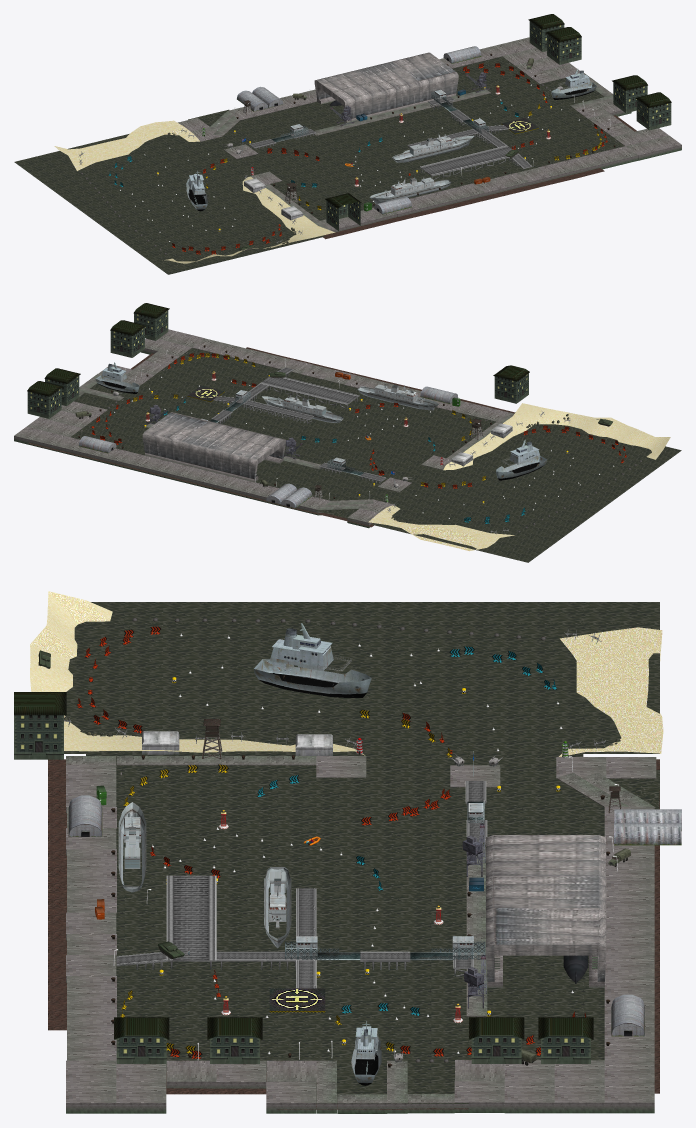
Rendered from Naval Base.glb.
3 views of the same model, one above another, from view 1: azimuth 30°, elevation 25°; view 2: azimuth 150°, elevation 25°; view 3: azimuth 270°, elevation 25° (orthographic). The views are drawn at different scales.
Visible parts, largest first — view 1: Untitled* (×9), toit1 (×5), Untitled, zone3, face2 (×2), zone1, zone2, Extended2, cote1 (×3), Base SousMarine, Petite Plage, hangar.3dm 1 (×2) (+3 smaller); view 2: Untitled* (×9), toit1 (×5), Untitled, Grande Plage, zone3, face2 (×2), zone1, zone2, Extended2, hull back* (×2), hangar.3dm 1 (×2), Grande Plage* (+3 smaller); view 3: Untitled* (×10), cote1 (×42), Untitled, toit1 (×5), zone1, Extended2, Grande Plage, hangar.3dm 1 (×4), zone3, potods.3dm 2 (×4), zone2, Base SousMarine (+8 smaller).
Part boxes in pixels (x1,y1,x2,y2): Untitled* (×9): (53,60,624,274); toit1 (×5): (325,14,671,230); Untitled: (14,134,209,189); zone3: (314,70,387,118); face2 (×2): (369,134,474,203); zone1: (391,52,458,101); zone2: (358,62,420,109); Extended2: (54,137,138,170); cote1 (×3): (604,135,681,165); Base SousMarine: (323,184,538,239); Petite Plage: (126,120,199,146); hangar.3dm 1 (×2): (374,46,481,214); Untitled* (×9): (74,348,681,534); toit1 (×5): (27,303,529,418); Untitled: (372,496,566,562); Grande Plage: (504,403,670,459); zone3: (213,429,285,478); face2 (×2): (262,384,438,423); zone1: (142,412,209,461); zone2: (180,421,242,469); Extended2: (421,524,514,551); hull back* (×2): (95,375,547,480); hangar.3dm 1 (×2): (78,386,458,453); Grande Plage*: (443,423,524,470); Untitled* (×10): (64,602,659,1103); cote1 (×42): (66,756,656,1113); Untitled: (507,602,659,753); toit1 (×5): (14,692,593,1063); zone1: (486,908,606,981); Extended2: (560,627,662,706); Grande Plage: (30,591,126,751); hangar.3dm 1 (×4): (68,795,681,1036); zone3: (486,835,605,878); potods.3dm 2 (×4): (166,875,216,961); zone2: (486,876,606,910); Base SousMarine: (48,759,66,966).
Bounding box in the file's own units: 331 × 26.35 × 186.
Materials: 46 (45 with a texture image).
